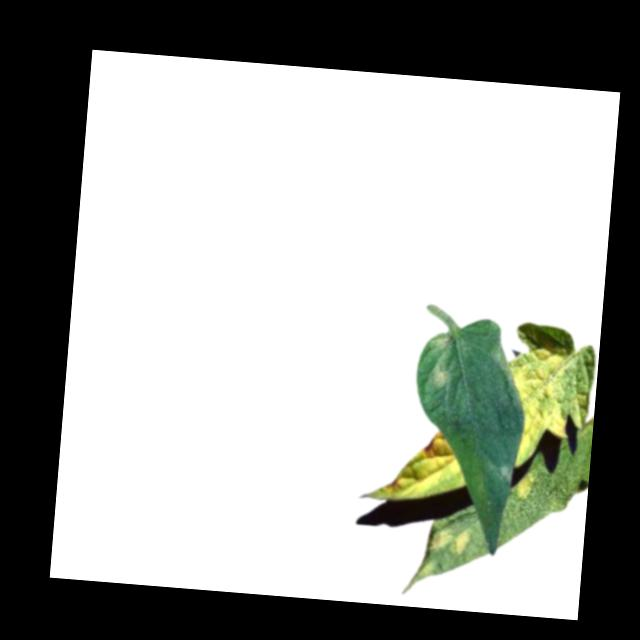Leaf_Mold: (498, 347, 597, 467), (356, 427, 465, 507), (429, 525, 472, 556), (518, 476, 538, 502), (433, 368, 452, 394)
